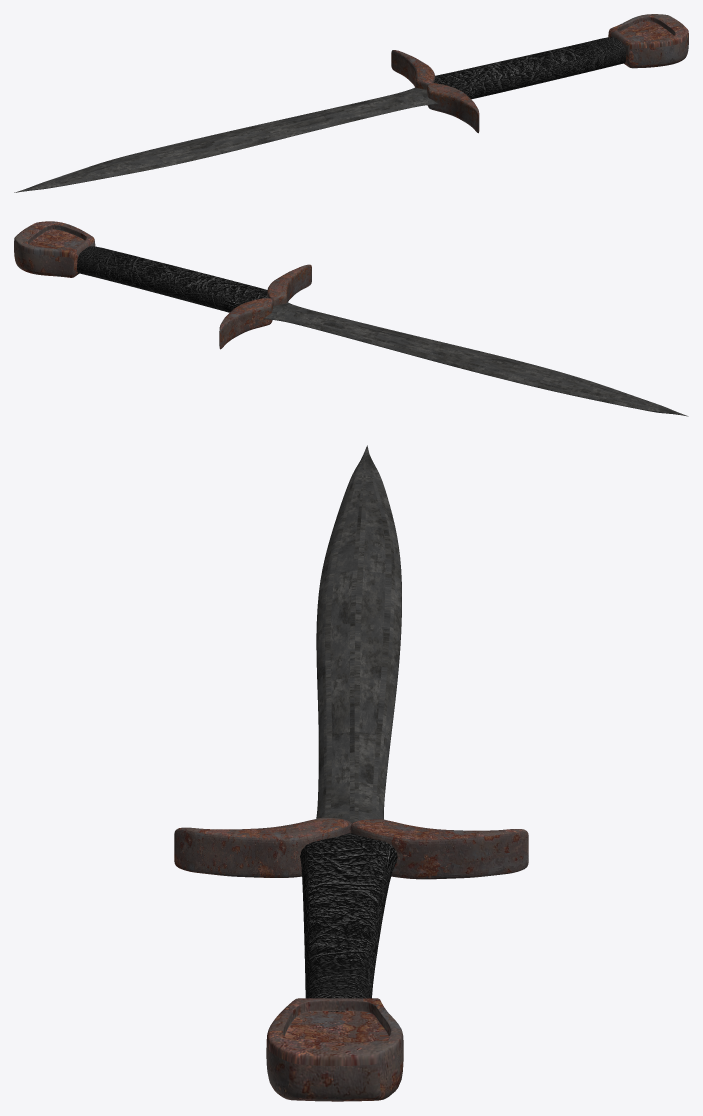
File: sword2a.obj
3 renders of one model, top to bottom at view 1: azimuth 30°, elevation 25°; view 2: azimuth 150°, elevation 25°; view 3: azimuth 270°, elevation 25°, orthographic. The views are drawn at different scales.
Visible parts, largest first — view 1: blade_Plane.006, Sword_cord_Plane.004, detail_2_Cube.001, detail_1_Plane.003; view 2: blade_Plane.006, Sword_cord_Plane.004, detail_2_Cube.001, detail_1_Plane.003; view 3: blade_Plane.006, detail_1_Plane.003, Sword_cord_Plane.004, detail_2_Cube.001.
Part boxes in pixels (<box>): blade_Plane.006: <box>14,87,438,192</box>; Sword_cord_Plane.004: <box>434,37,625,99</box>; detail_2_Cube.001: <box>608,14,688,68</box>; detail_1_Plane.003: <box>391,50,479,133</box>; blade_Plane.006: <box>263,302,688,416</box>; Sword_cord_Plane.004: <box>77,246,267,312</box>; detail_2_Cube.001: <box>14,221,95,277</box>; detail_1_Plane.003: <box>219,264,311,349</box>; blade_Plane.006: <box>316,445,401,823</box>; detail_1_Plane.003: <box>174,817,528,879</box>; Sword_cord_Plane.004: <box>300,833,397,1011</box>; detail_2_Cube.001: <box>266,998,403,1101</box>.
Size of the model in its own units: 2.31 by 0.0886 by 0.537.
Materials: 3 (3 with a texture image).
